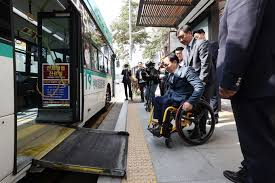guide_blocks: (127, 102, 155, 183)
